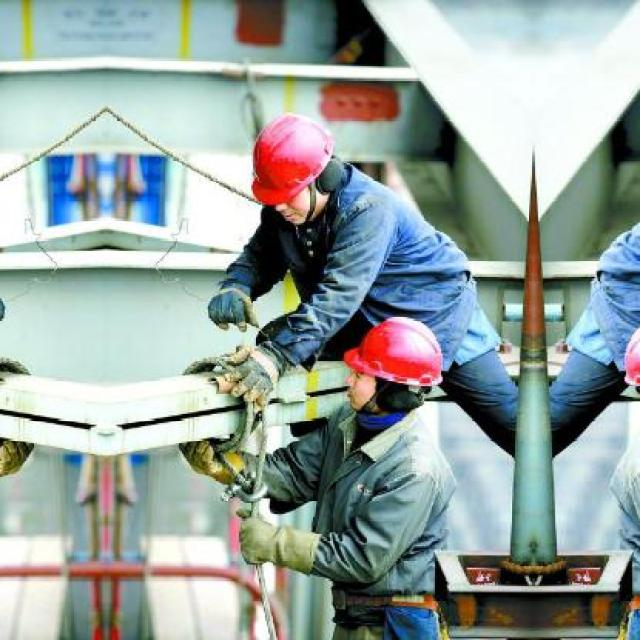helmet: (235, 104, 346, 230), (346, 312, 454, 423), (612, 312, 637, 425)
